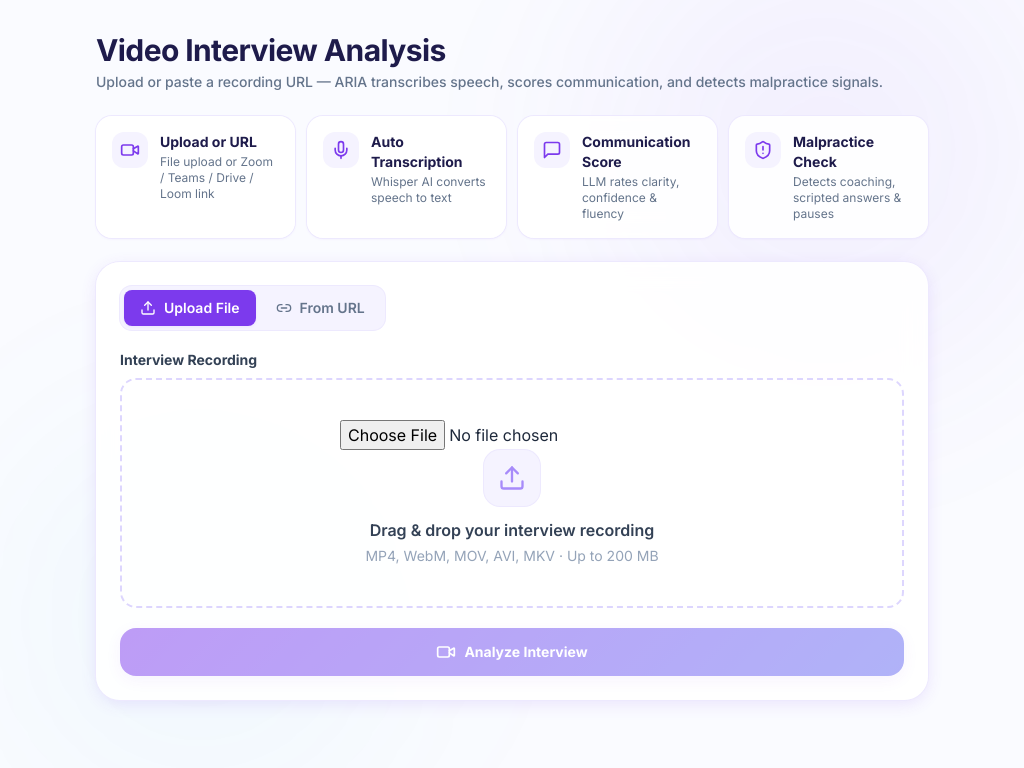
Test: VideoPage › switches to URL mode when From URL tab clicked
The width and height of the screenshot is (1024, 768).
Click the button "From URL": (320, 308) x1=260 y1=290 x2=381 y2=326
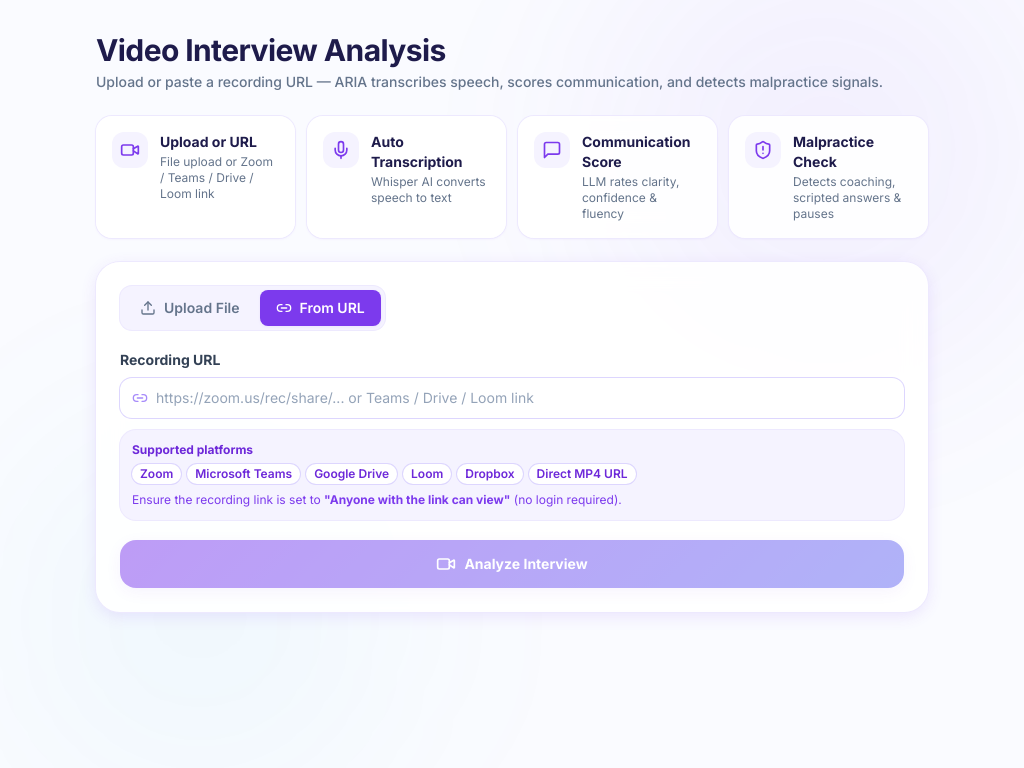
Now the field with placeholder "https://zoom.us/rec/share/... or Teams / Drive / Loom link" is shown, box x1=120 y1=378 x2=904 y2=418
